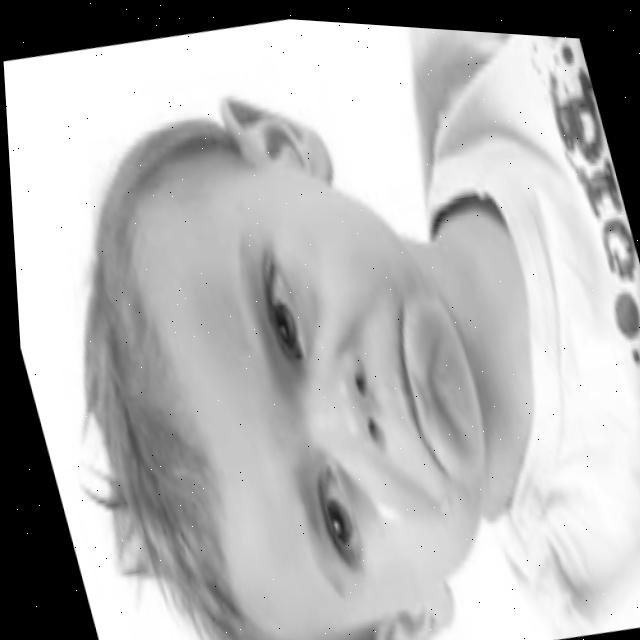sad: (152, 80, 553, 640)
